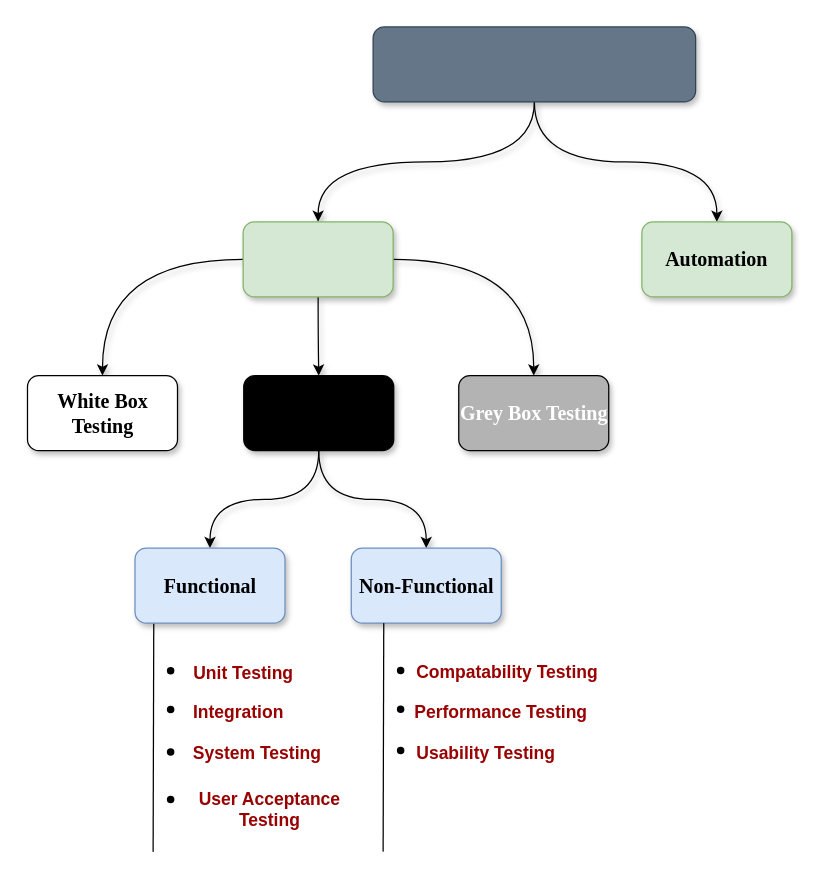
Image size: 821x874. Some labels were removed from this diagram. Each missing label, with the centre of its shape:
Black Box Testing: (319,414)
Manual: (319,261)
Types of Software Testing: (535,66)
